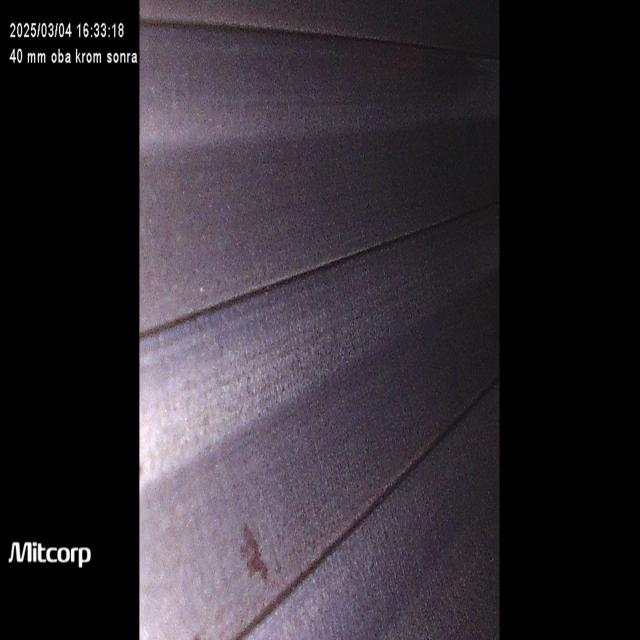hata_4.2: (230, 512, 288, 616), (205, 263, 235, 350)
